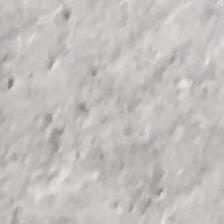Non_Crack: (6, 15, 224, 214)
